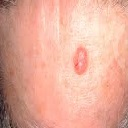Carcinoma: (71, 45, 94, 76)
